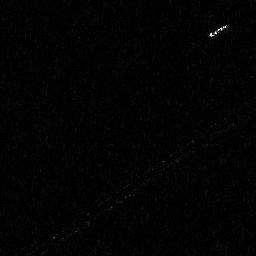ship: (209, 23, 229, 36)
